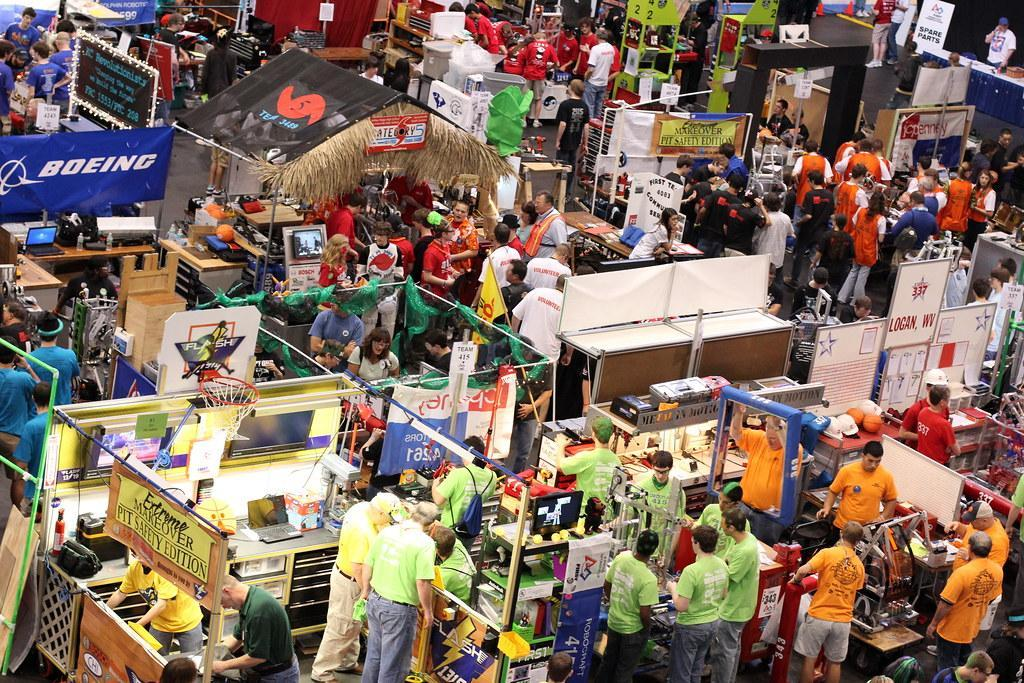robot: (612, 462, 693, 636), (849, 510, 933, 645)
